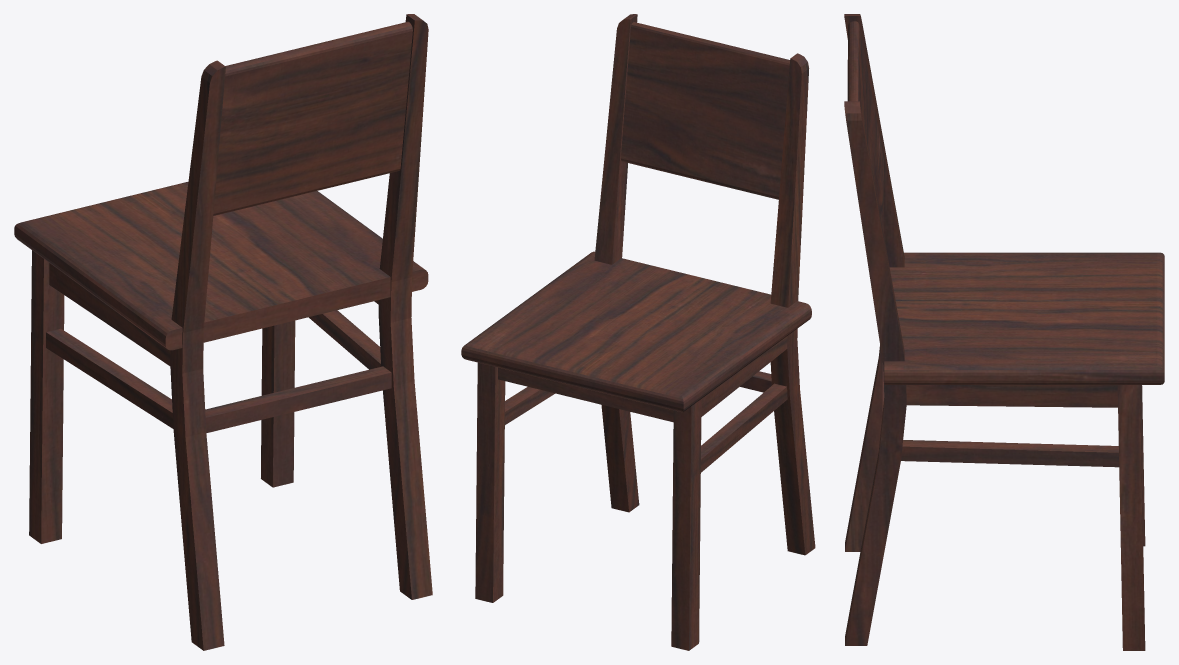
Rendered from chair.fbx.
The picture shows the model from 3 angles, left to right: view 1: azimuth 30°, elevation 25°; view 2: azimuth 150°, elevation 25°; view 3: azimuth 270°, elevation 25°; orthographic projection. The views are drawn at different scales.
Parts seen in each view (by area): view 1: Cube; view 2: Cube; view 3: Cube.
Boxes of the visible parts, left/top/right/bottom form: Cube: left=14, top=14, right=432, bottom=650; Cube: left=461, top=14, right=815, bottom=650; Cube: left=844, top=14, right=1164, bottom=650.
Bounding box in the file's own units: 104 × 219 × 119.
